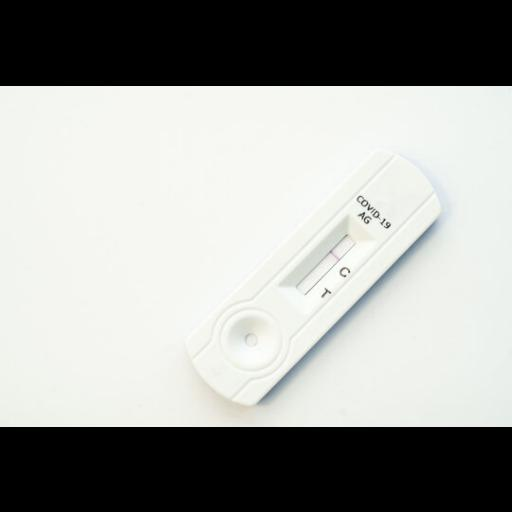Neg: (178, 140, 452, 413)
